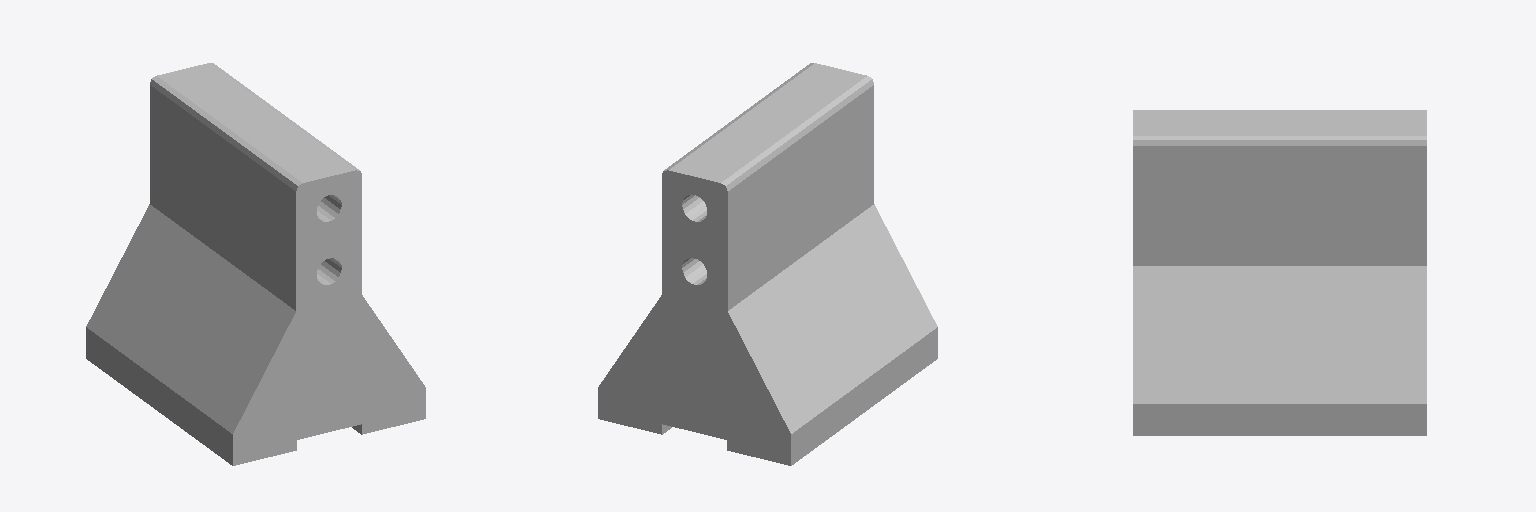
The model's file is main.obj.
3 renders of one model, left to right at view 1: azimuth 30°, elevation 25°; view 2: azimuth 150°, elevation 25°; view 3: azimuth 270°, elevation 25°, orthographic.
Visible parts, largest first — view 1: Box001; view 2: Box001; view 3: Box001.
Part boxes in pixels (bbox=[...]): Box001: bbox=[86, 63, 425, 465]; Box001: bbox=[598, 63, 937, 465]; Box001: bbox=[1133, 110, 1426, 435].
Size of the model in its own units: 380 by 500 by 500.